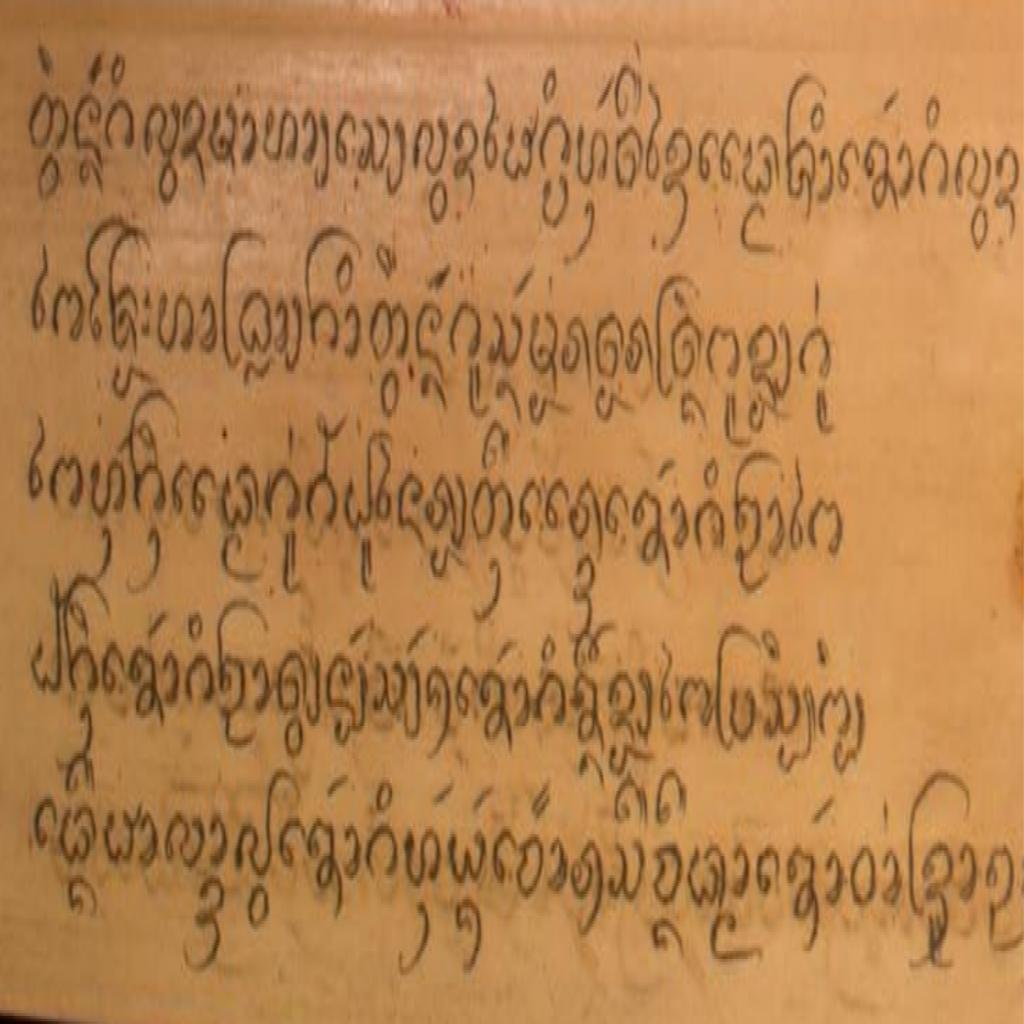LN009: (108, 228, 142, 361)
LN023: (72, 86, 106, 158)
